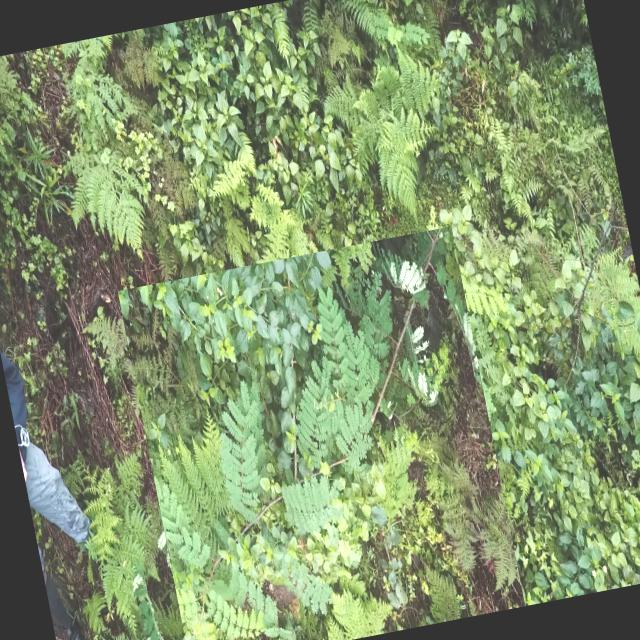Mysore-Thorn-Weed: (117, 226, 525, 640)
